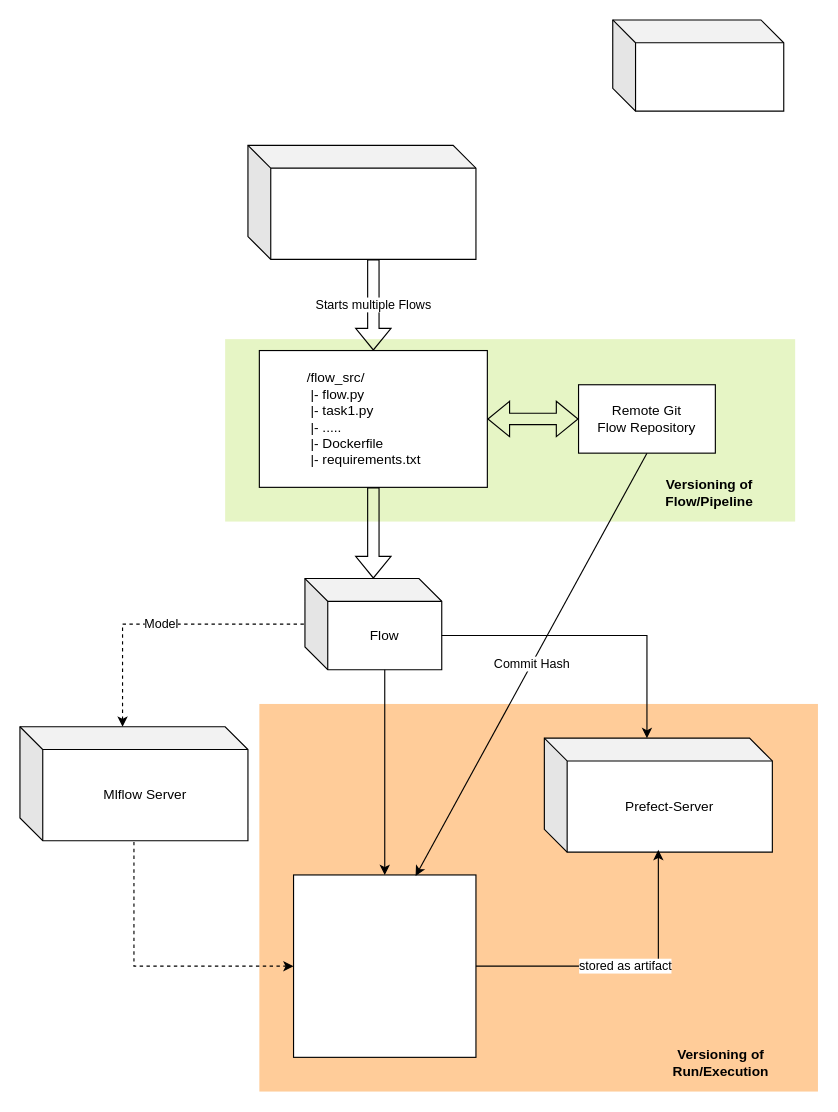
Some shapes in this 838 by 1112 pixel diagram are drawn without their labels. The centre of each missing label's shape, as x and y in pixels:
Each Block is a Docker container: the point at 698,65
Flow Configuration Inputs Outputs Status Commit Hash Model ID etc.: the point at 384,965
Flow Executioner main entry point: the point at 361,201
